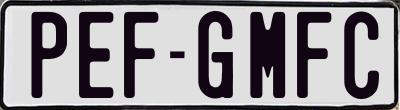C: (344, 8, 382, 96)
E: (79, 9, 115, 96)
F: (122, 12, 162, 100), (295, 12, 329, 101)
G: (196, 8, 231, 97)
M: (250, 10, 286, 98)
P: (29, 12, 69, 103)
